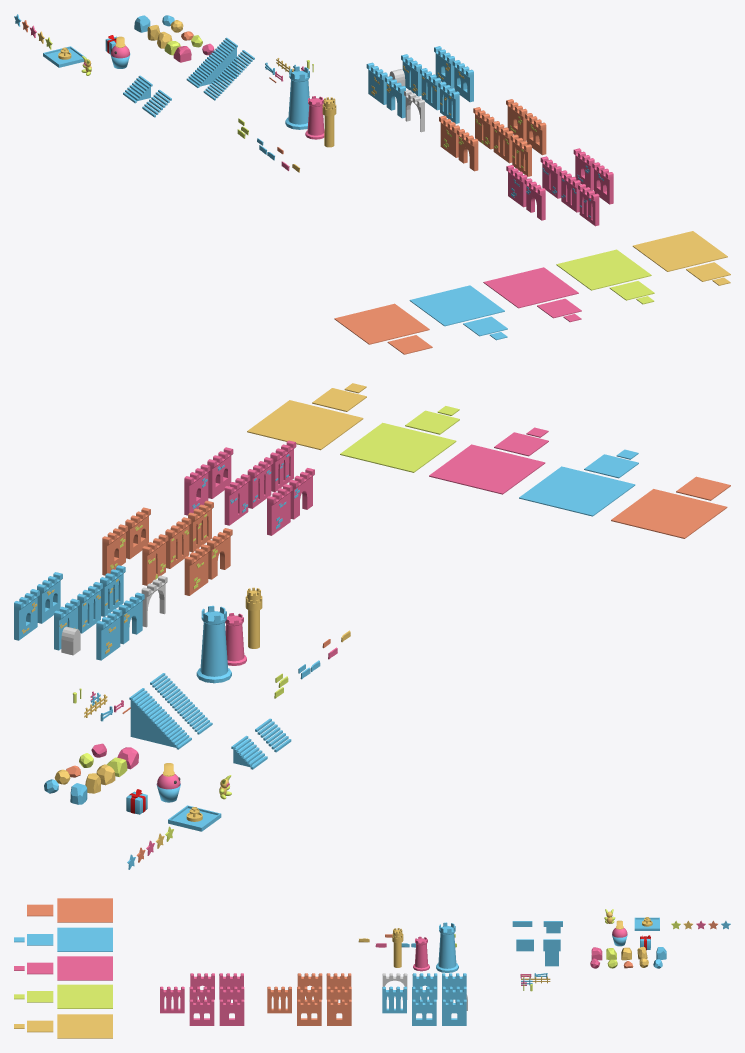
Rendered from castle_kit.fbx.
3 renders of one model, top to bottom at view 1: azimuth 30°, elevation 25°; view 2: azimuth 150°, elevation 25°; view 3: azimuth 270°, elevation 25°, orthographic. The views are drawn at different scales.
Parts seen in each view (by area): view 1: Cube.006, Cube.003, Cube.011, Cube.021, Cube.014, Cube.026, Cylinder.001, Cube.027, Cube.055, Cube.017, Cylinder, Cube.016 (+20 smaller); view 2: Cube.006, Cube.003, Cube.011, Cube.021, Cube.014, Cube.026, Cylinder.001, Cube.027, Cube.015, Cube.052, Cube.029, Cube.033 (+25 smaller); view 3: Cube.021, Cube.003, Cube.006, Cube.011, Cube.014, Cylinder.001, Cube.051, Cube.055, Cube.035, Cube.018, Cube.043, Cube.037 (+25 smaller).
Boxes of the visible parts, x1=… form: Cube.006: x1=483, y1=267, x2=578, y2=308; Cube.003: x1=409, y1=285, x2=504, y2=326; Cube.011: x1=556, y1=249, x2=651, y2=290; Cube.021: x1=334, y1=303, x2=429, y2=344; Cube.014: x1=632, y1=231, x2=727, y2=271; Cube.026: x1=186, y1=37, x2=237, y2=87; Cylinder.001: x1=285, y1=66, x2=309, y2=129; Cube.027: x1=203, y1=50, x2=254, y2=100; Cube.055: x1=578, y1=184, x2=599, y2=226; Cube.017: x1=525, y1=113, x2=546, y2=155; Cylinder: x1=305, y1=96, x2=324, y2=139; Cube.016: x1=457, y1=129, x2=478, y2=171; Cube.006: x1=429, y1=444, x2=545, y2=494; Cube.003: x1=519, y1=466, x2=635, y2=516; Cube.011: x1=340, y1=422, x2=456, y2=472; Cube.021: x1=611, y1=489, x2=727, y2=538; Cube.014: x1=247, y1=400, x2=363, y2=450; Cube.026: x1=129, y1=688, x2=191, y2=749; Cylinder.001: x1=196, y1=605, x2=231, y2=683; Cube.027: x1=150, y1=673, x2=212, y2=734; Cube.015: x1=184, y1=544, x2=210, y2=595; Cube.052: x1=224, y1=474, x2=250, y2=525; Cube.029: x1=96, y1=609, x2=122, y2=660; Cube.033: x1=142, y1=534, x2=168, y2=585; Cube.021: x1=57, y1=898, x2=112, y2=922; Cube.003: x1=57, y1=927, x2=112, y2=951; Cube.006: x1=57, y1=956, x2=112, y2=980; Cube.011: x1=57, y1=984, x2=112, y2=1008; Cube.014: x1=57, y1=1014, x2=112, y2=1038; Cylinder.001: x1=436, y1=922, x2=458, y2=972; Cube.051: x1=219, y1=999, x2=244, y2=1025; Cube.055: x1=160, y1=986, x2=184, y2=1013; Cube.035: x1=267, y1=986, x2=291, y2=1013; Cube.018: x1=327, y1=999, x2=351, y2=1025; Cube.043: x1=189, y1=999, x2=214, y2=1025; Cube.037: x1=442, y1=999, x2=466, y2=1025.
Bounding box in the file's own units: 6233 × 961 × 13549.
